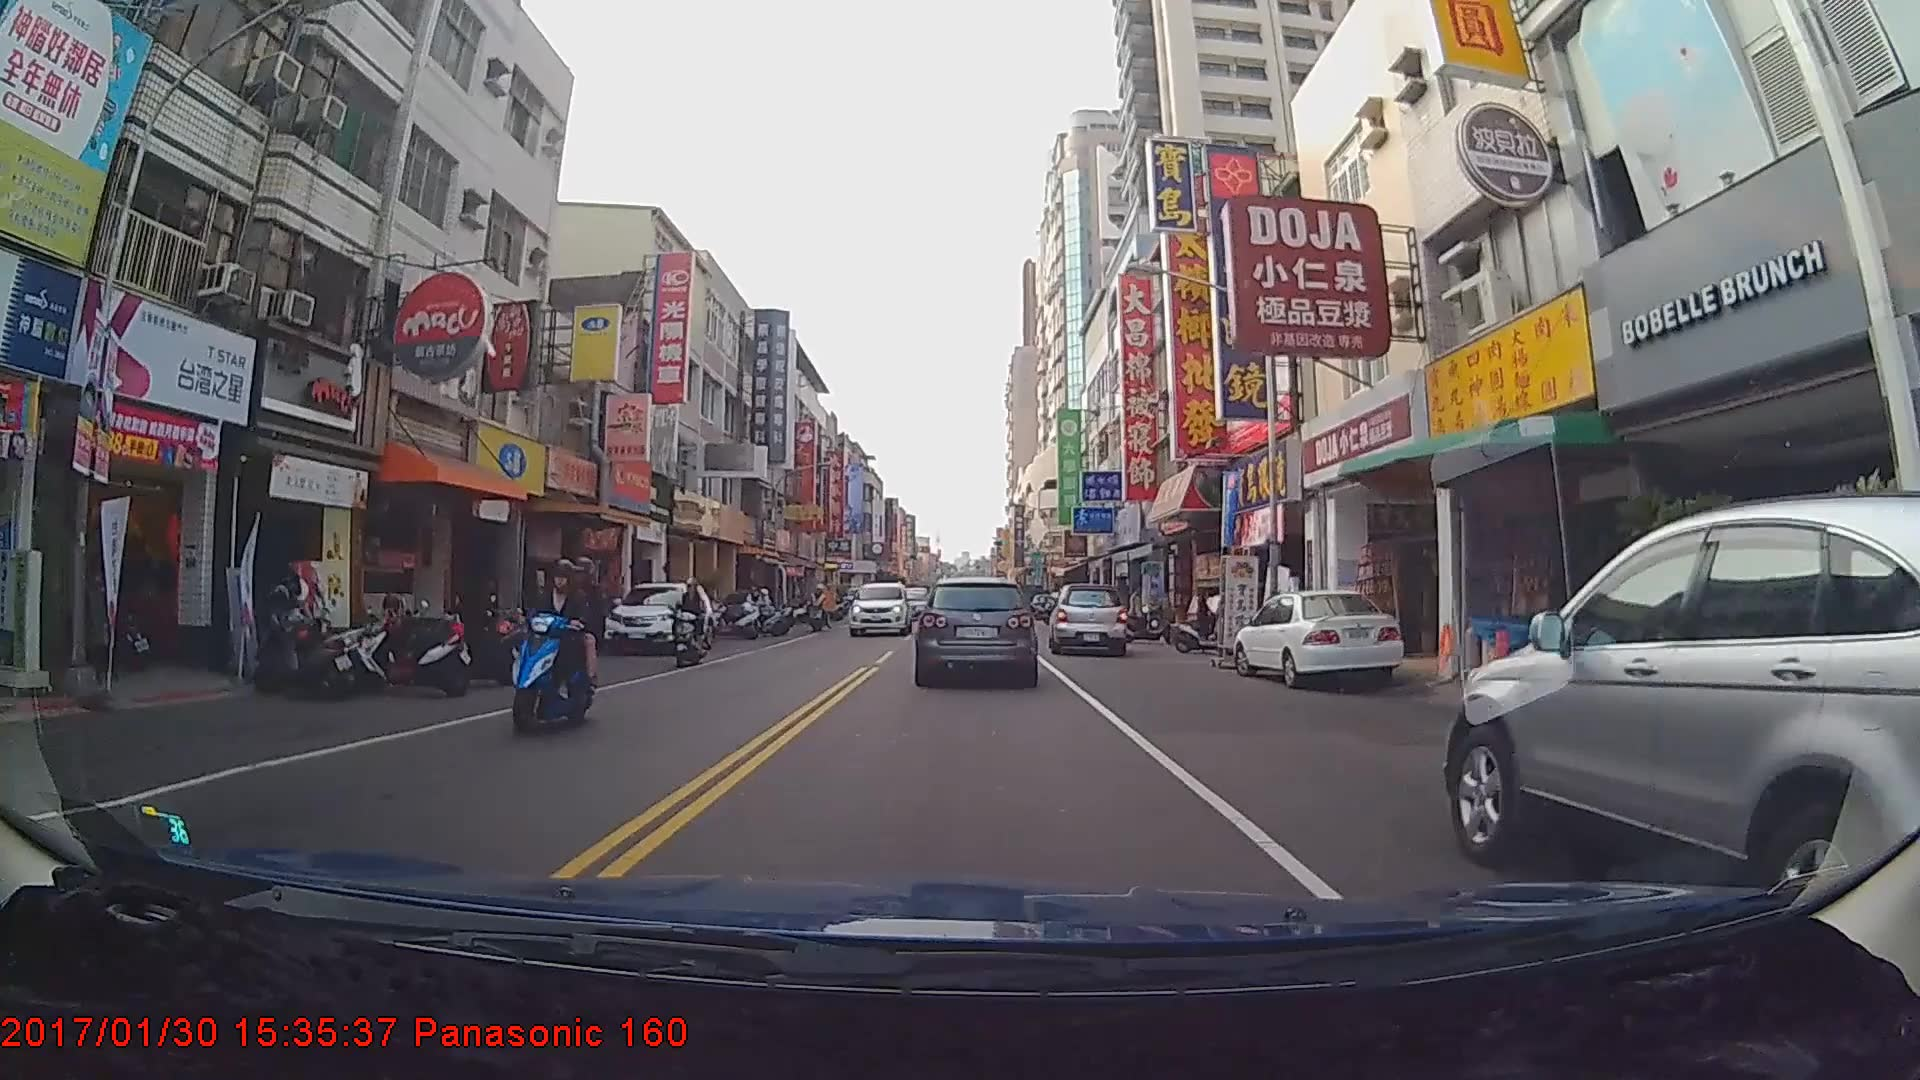rider: (513, 551, 610, 739), (1174, 585, 1238, 654), (672, 571, 712, 663)
vehicle: (1442, 502, 1920, 991), (1234, 584, 1404, 682), (914, 577, 1037, 684), (599, 580, 714, 655), (1047, 581, 1126, 652), (848, 580, 912, 636)
